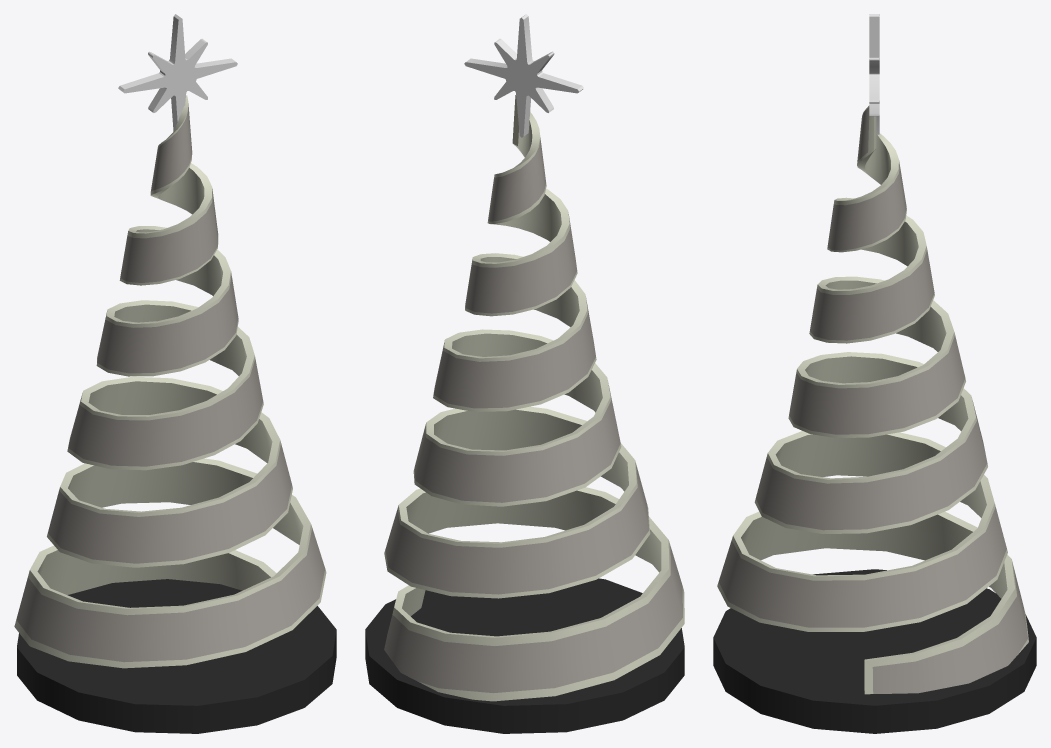
File: ChristmasDecorationTree_01.fbx
The picture shows the model from 3 angles, left to right: view 1: azimuth 30°, elevation 25°; view 2: azimuth 150°, elevation 25°; view 3: azimuth 270°, elevation 25°; orthographic projection.
Visible parts, largest first — view 1: ChristmasDecorationTree_01; view 2: ChristmasDecorationTree_01; view 3: ChristmasDecorationTree_01.
Boxes of the visible parts, x1,y1,x2,y2 form: ChristmasDecorationTree_01: (14,14,336,733); ChristmasDecorationTree_01: (365,14,684,733); ChristmasDecorationTree_01: (713,14,1036,733).
Size of the model in its own units: 0.2022 by 0.4476 by 0.2011.
